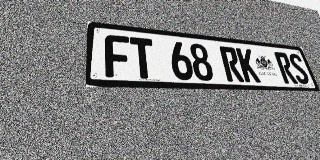6: (168, 41, 195, 80)
8: (188, 43, 215, 81)
F: (105, 34, 131, 78)
K: (236, 48, 261, 83)
R: (219, 46, 245, 82), (274, 52, 298, 84)
S: (287, 53, 311, 84)
T: (130, 37, 156, 79)
